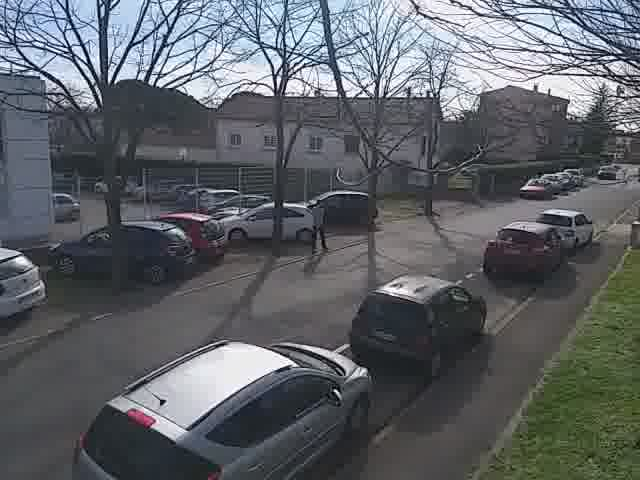persona: (302, 192, 335, 259)
